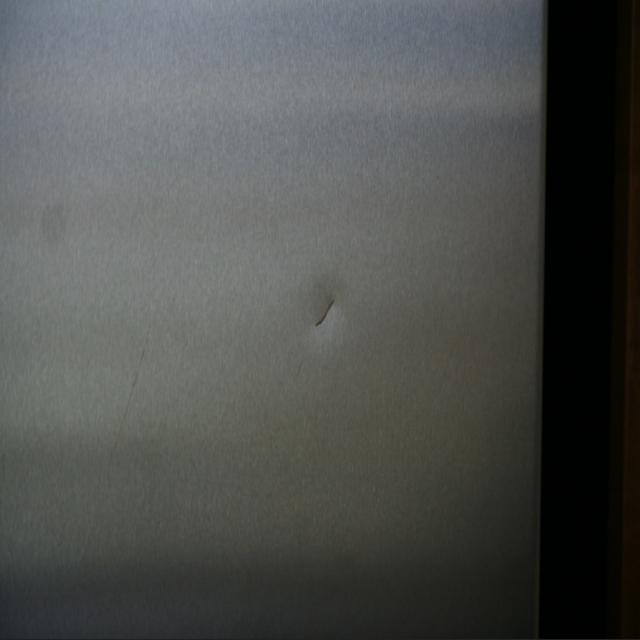dents: (303, 270, 353, 355)
